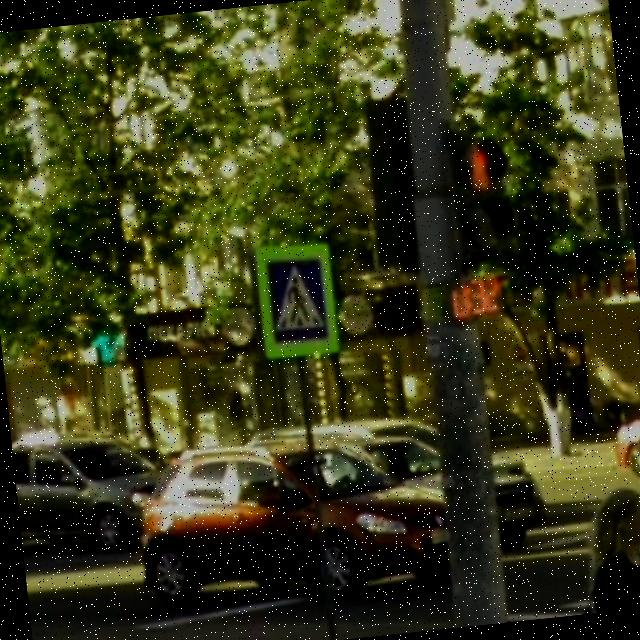Przejscie dla pieszych: (248, 236, 344, 360)
